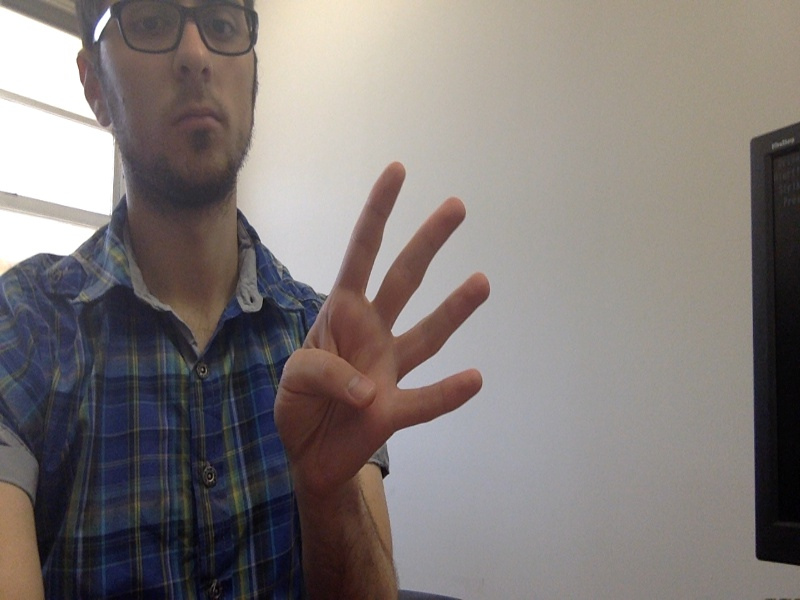4-hand: (276, 161, 490, 485)
